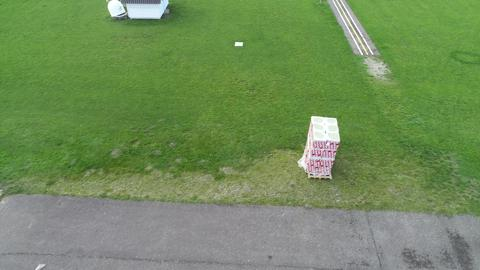RockwoolPallet: (299, 115, 340, 180)
